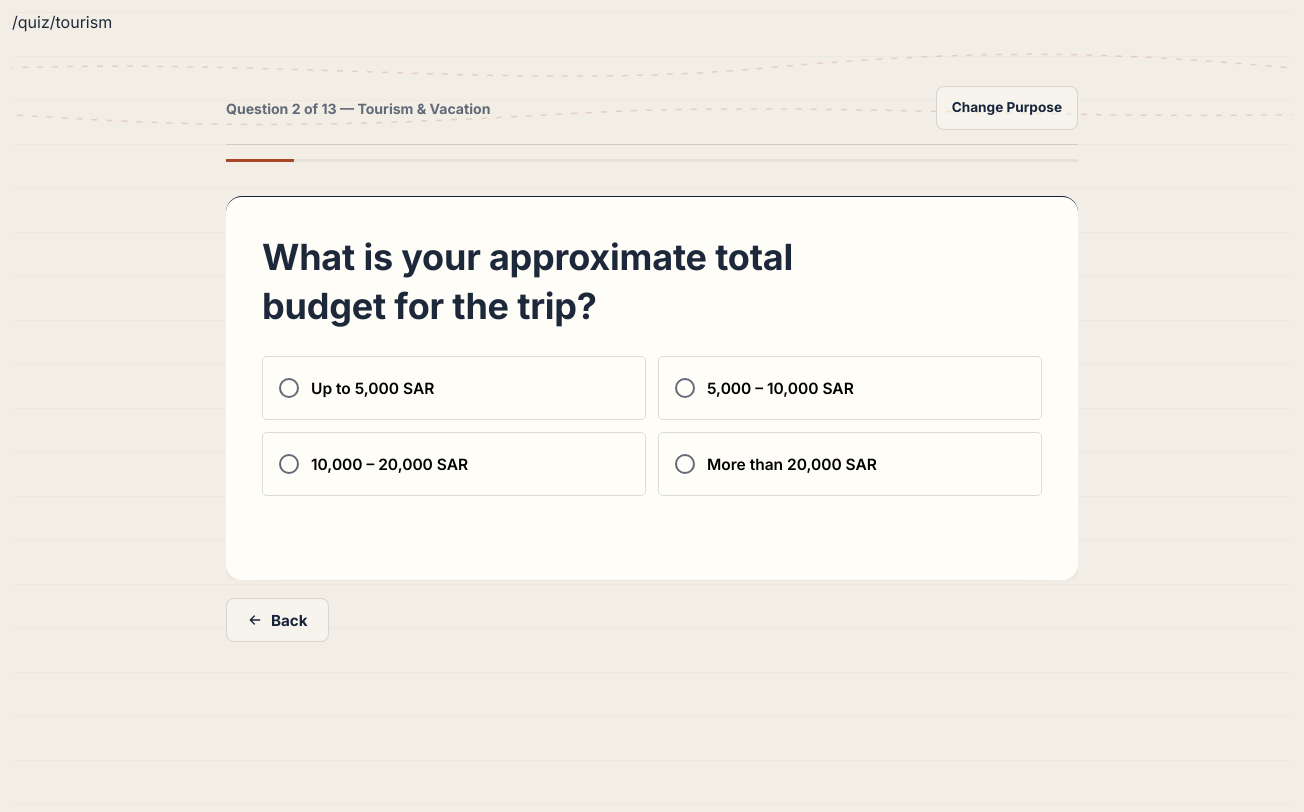
Test: destination match flow › works in English and for a country outside the top 10 with a low match
Earlier steps of the test are not shown.
Later steps or results of the test are not shown.
Click the radio button labelled "Up to 5,000 SAR" at [373, 388], box [262,356,646,420]
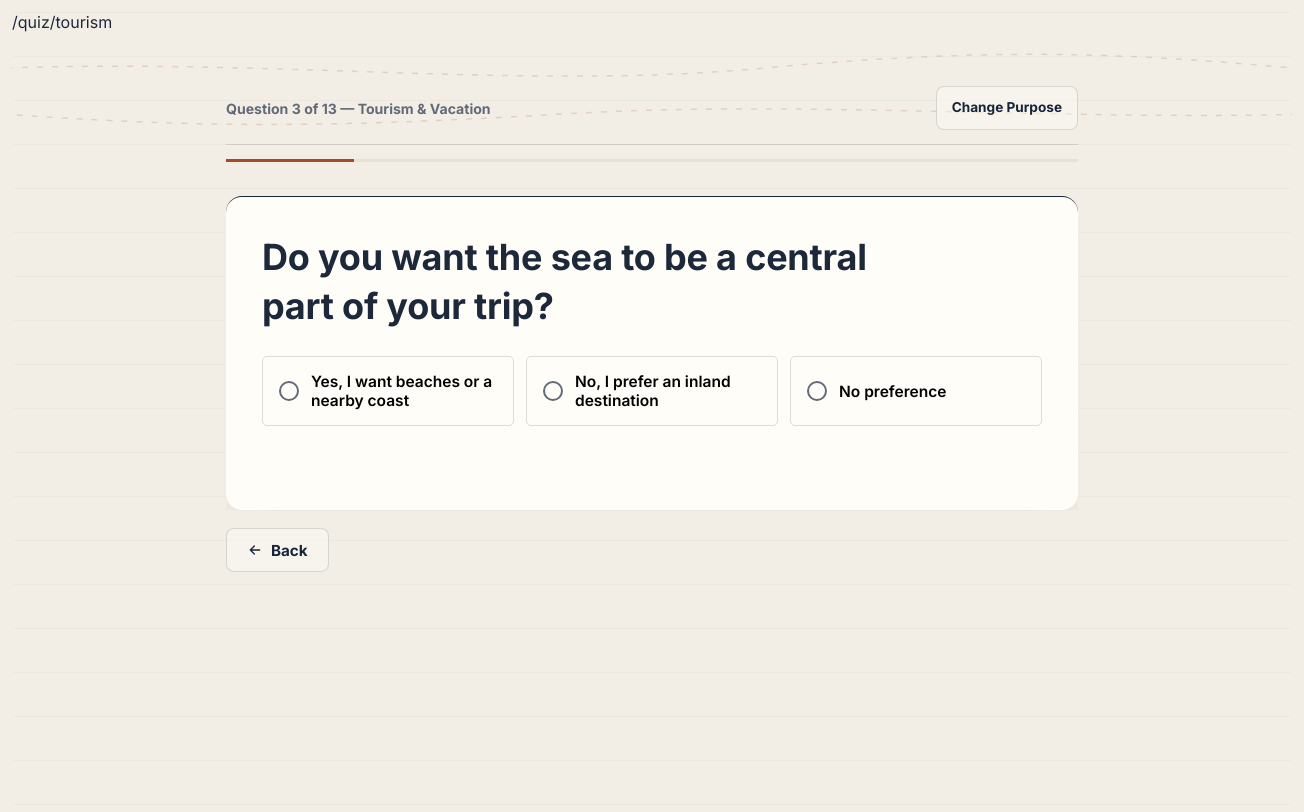
Click the radio button labelled "Yes, I want beaches or a nearby coast" at [388, 391], box [262,356,514,426]
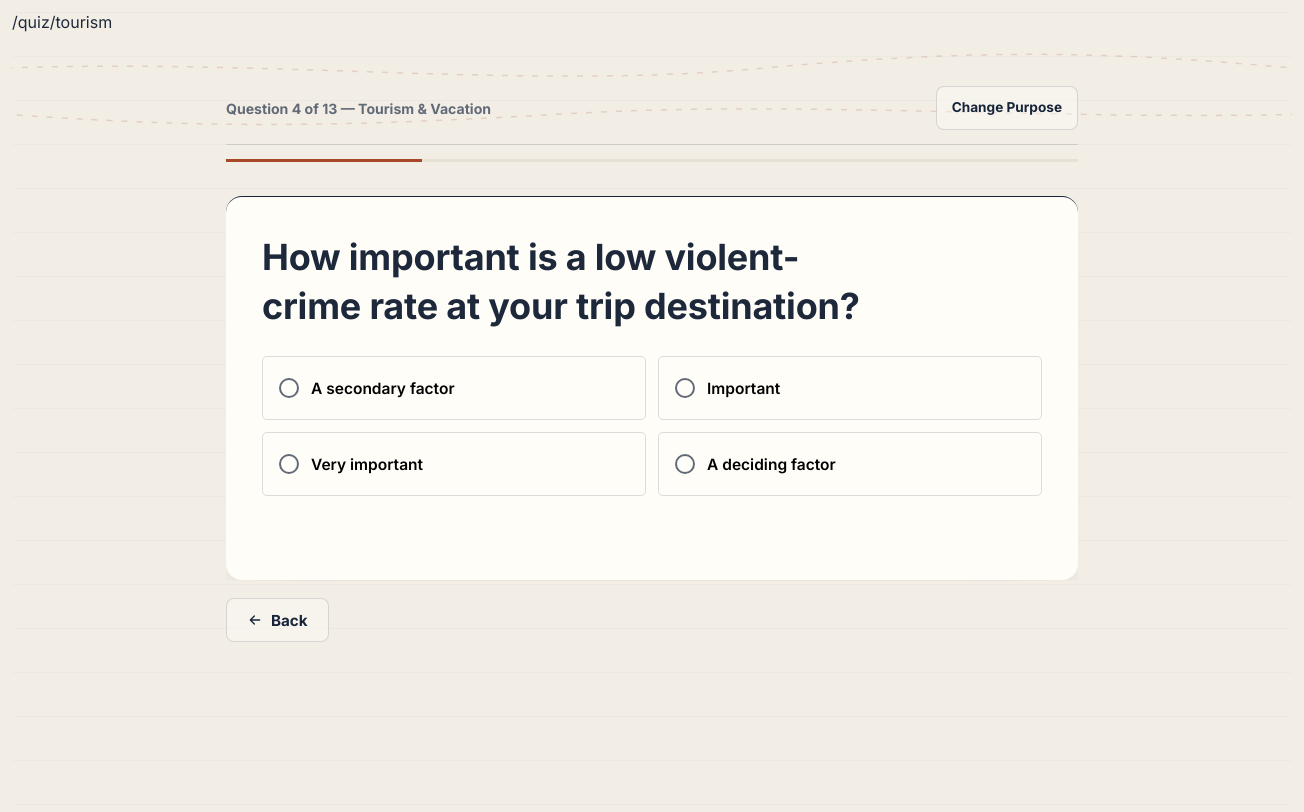
Click the radio button labelled "A secondary factor" at [454, 388], box [262,356,646,420]
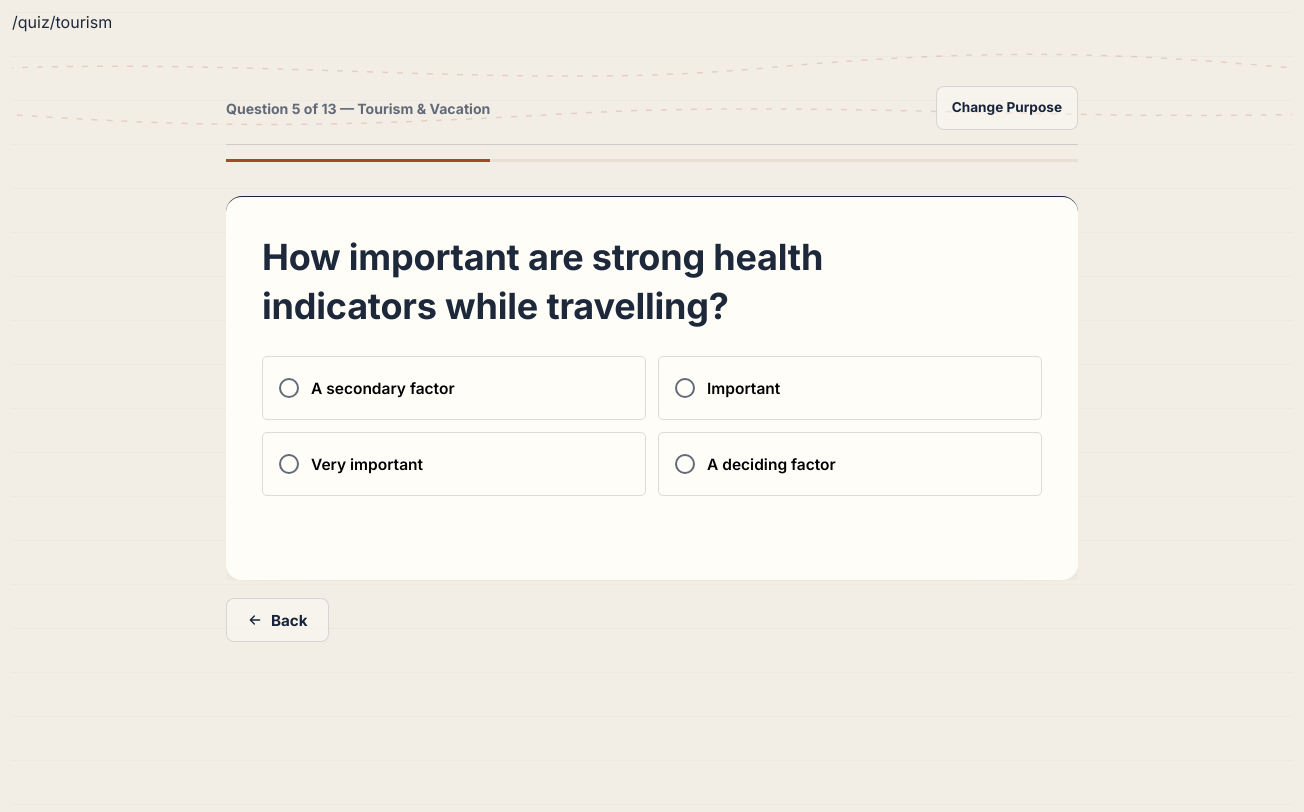
Click the radio button labelled "A secondary factor" at [454, 388], box [262,356,646,420]
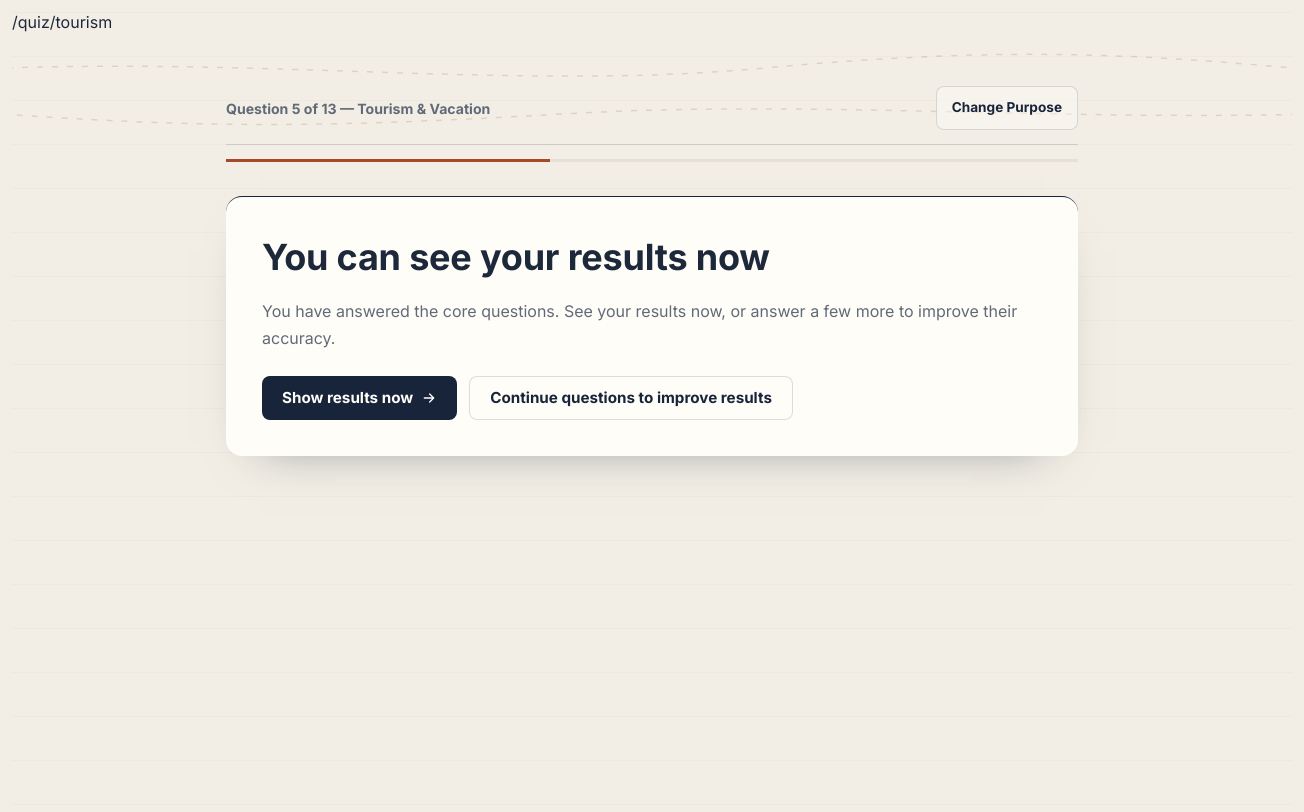
Click the button "Show results now" at [360, 398], box [262,376,457,420]
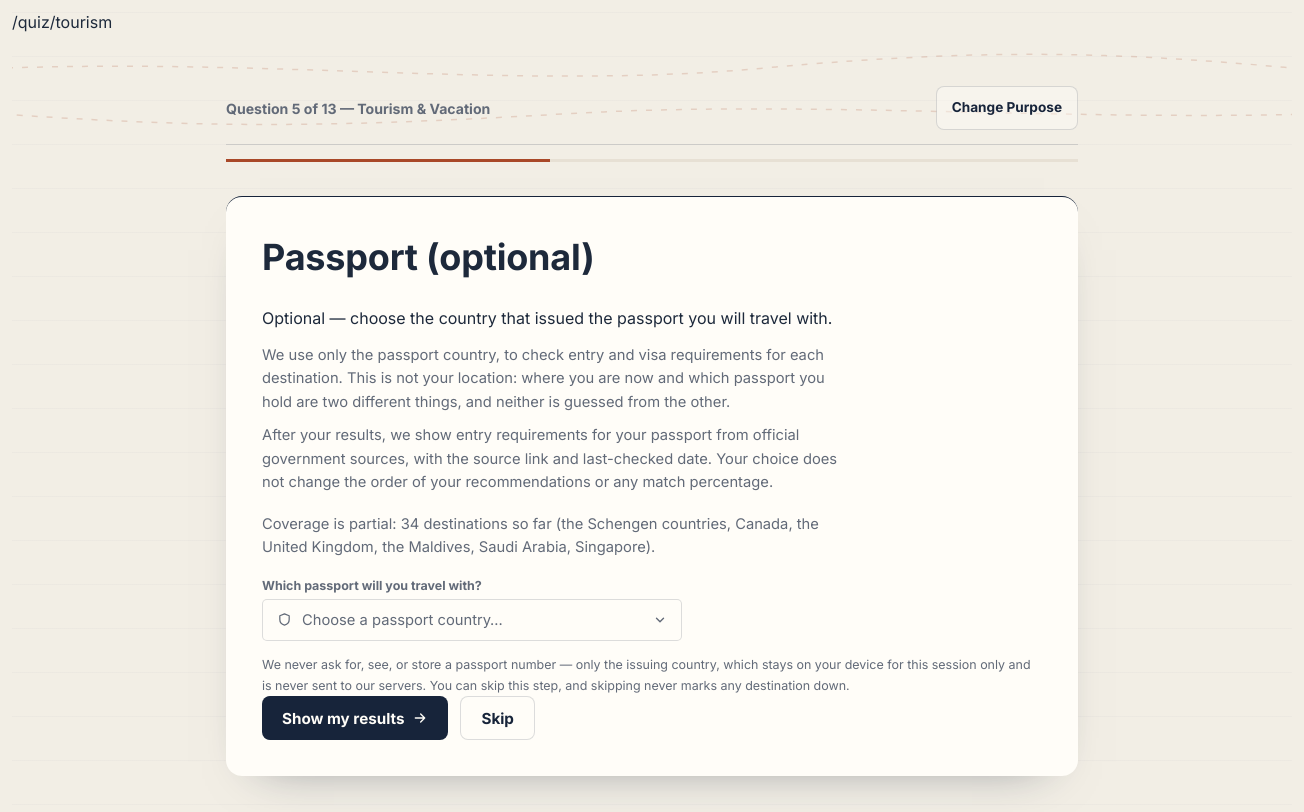
Click the button "Skip" at [498, 718], box [460,696,535,740]
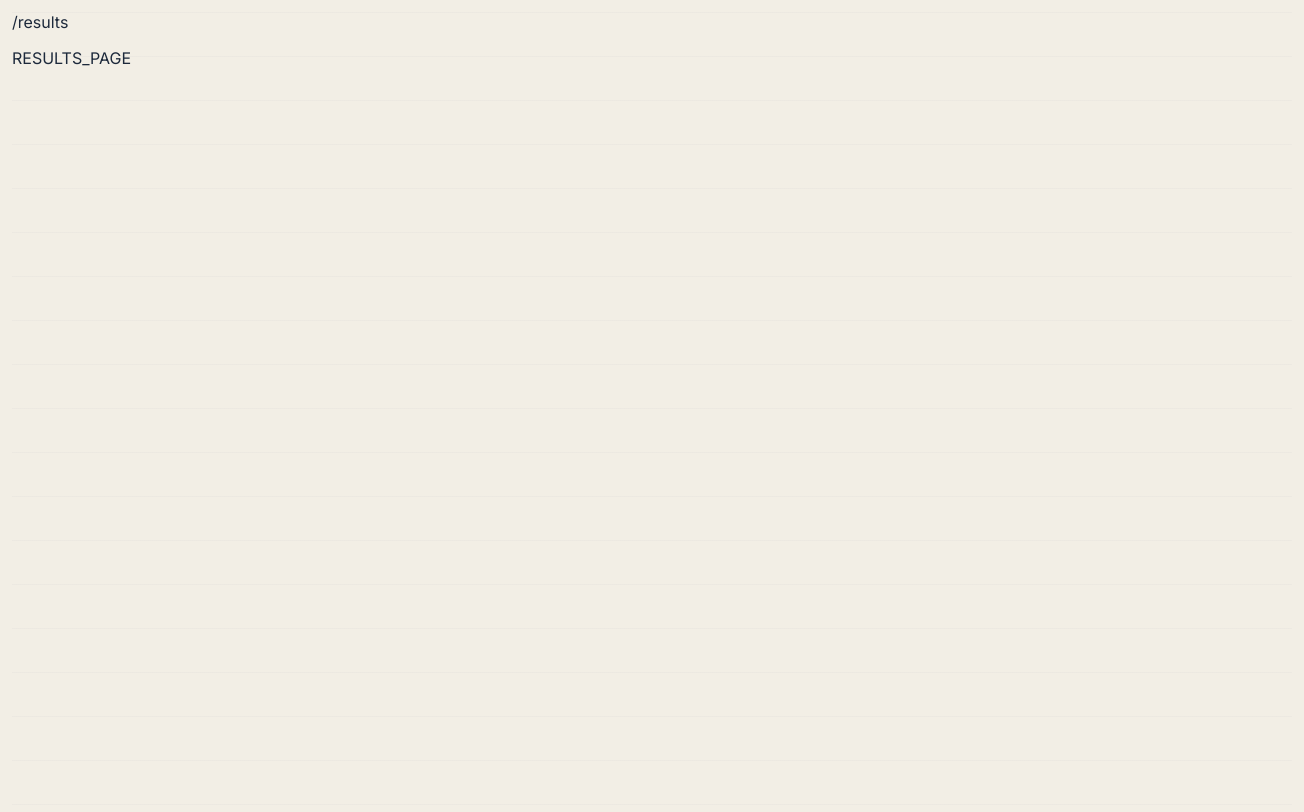
Expected: the text with test id "where" reads "/results", [12,12,68,32]
